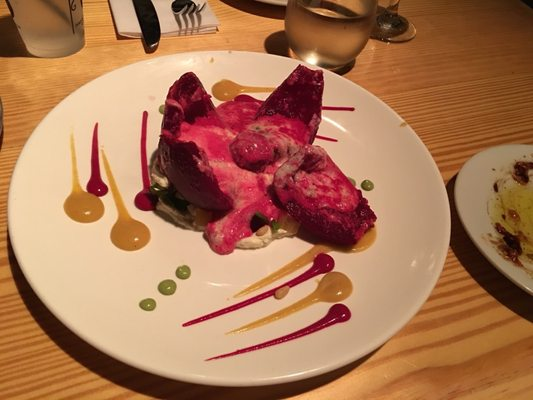pizza: (284, 0, 379, 75), (5, 0, 86, 58)
salad: (64, 122, 107, 224)
sandwich: (131, 0, 160, 54)
